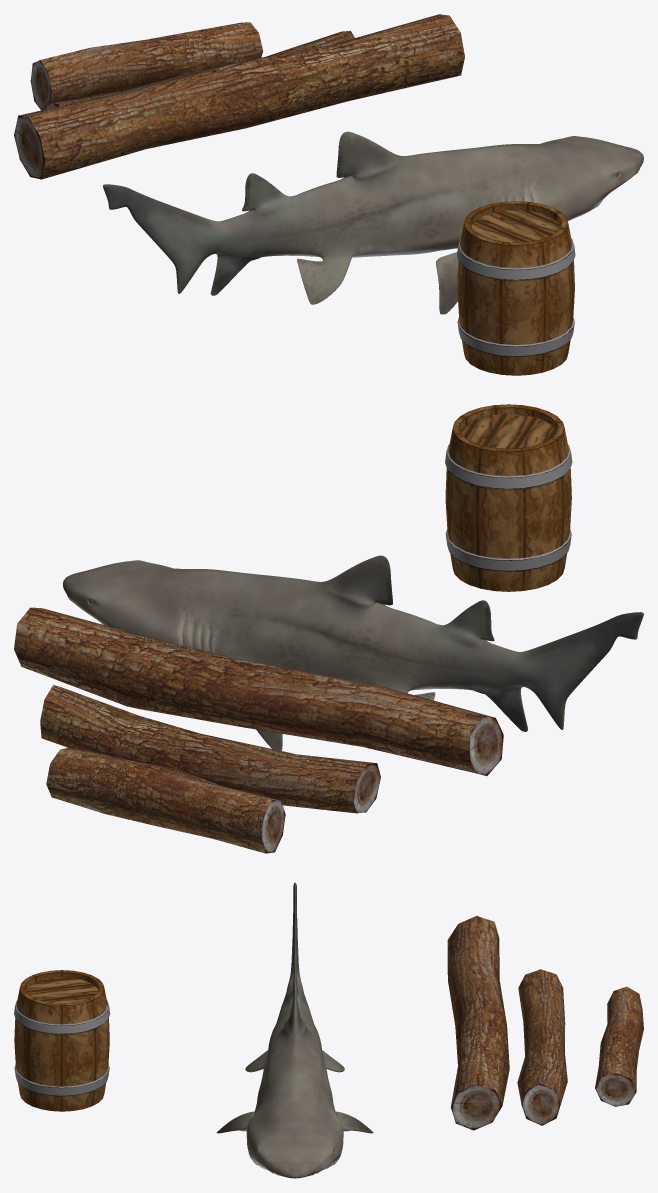
3 views of the same model, one above another, from view 1: azimuth 30°, elevation 25°; view 2: azimuth 150°, elevation 25°; view 3: azimuth 270°, elevation 25° (orthographic). The views are drawn at different scales.
Visible parts, largest first — view 1: _Shark_v2_L1:_Shark_v2, polySurface3, Barrel; view 2: polySurface3, _Shark_v2_L1:_Shark_v2, Barrel; view 3: polySurface3, _Shark_v2_L1:_Shark_v2, Barrel.
Part boxes in pixels (x1,y1,x2,y2): _Shark_v2_L1:_Shark_v2: (103, 131, 643, 314); polySurface3: (14, 14, 464, 179); Barrel: (457, 201, 575, 375); polySurface3: (14, 607, 503, 853); _Shark_v2_L1:_Shark_v2: (63, 555, 643, 750); Barrel: (445, 404, 572, 591); polySurface3: (447, 916, 643, 1130); _Shark_v2_L1:_Shark_v2: (216, 882, 373, 1178); Barrel: (14, 970, 110, 1111).
Size of the model in its own units: 48.42 by 14.32 by 60.43.
